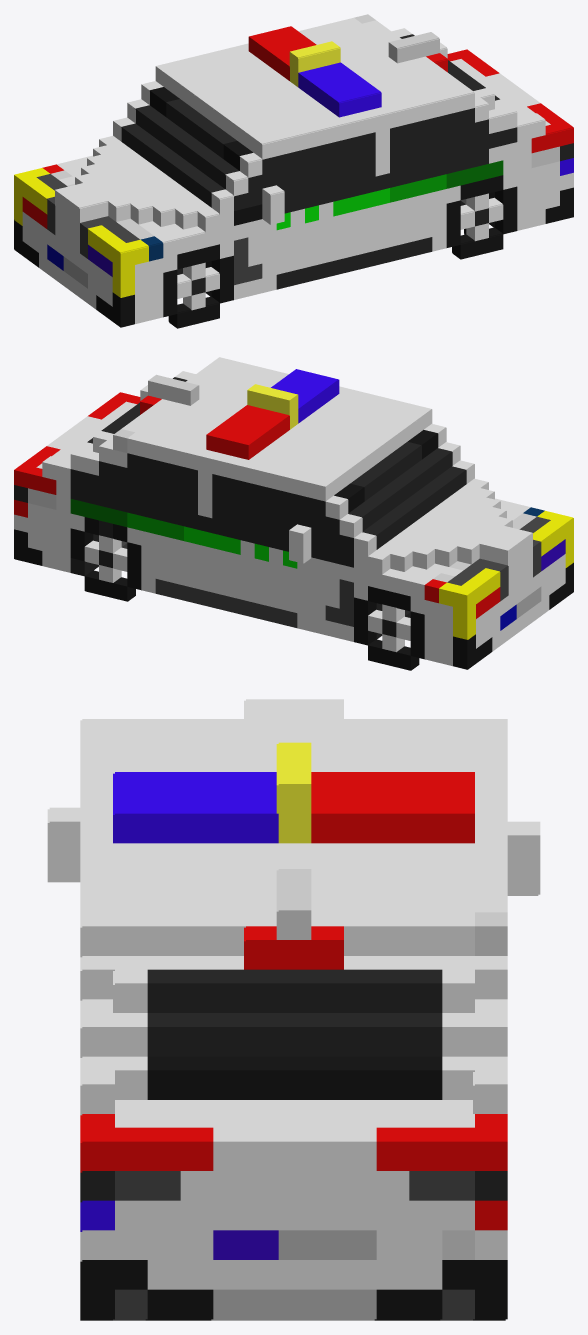
Rendered from car_19.glb.
3 renders of one model, top to bottom at view 1: azimuth 30°, elevation 25°; view 2: azimuth 150°, elevation 25°; view 3: azimuth 270°, elevation 25°, orthographic. The views are drawn at different scales.
Visible parts, largest first — view 1: ObjObject.001, ObjObject; view 2: ObjObject, ObjObject.001; view 3: ObjObject, ObjObject.001.
Part boxes in pixels (x1,y1,x2,y2): ObjObject.001: (14, 38, 573, 328); ObjObject: (14, 14, 573, 321); ObjObject: (14, 357, 573, 670); ObjObject.001: (15, 380, 573, 670); ObjObject: (49, 699, 540, 1319); ObjObject.001: (47, 700, 538, 1320).
Bounding box in the file's own units: 3.2 × 1.3 × 1.51.
1 material, 1 textured.
